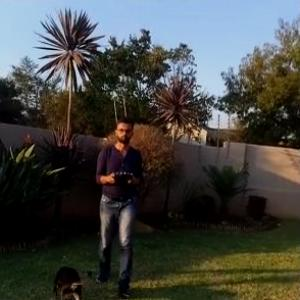follow: (90, 111, 147, 299)
null: (47, 266, 94, 299)
